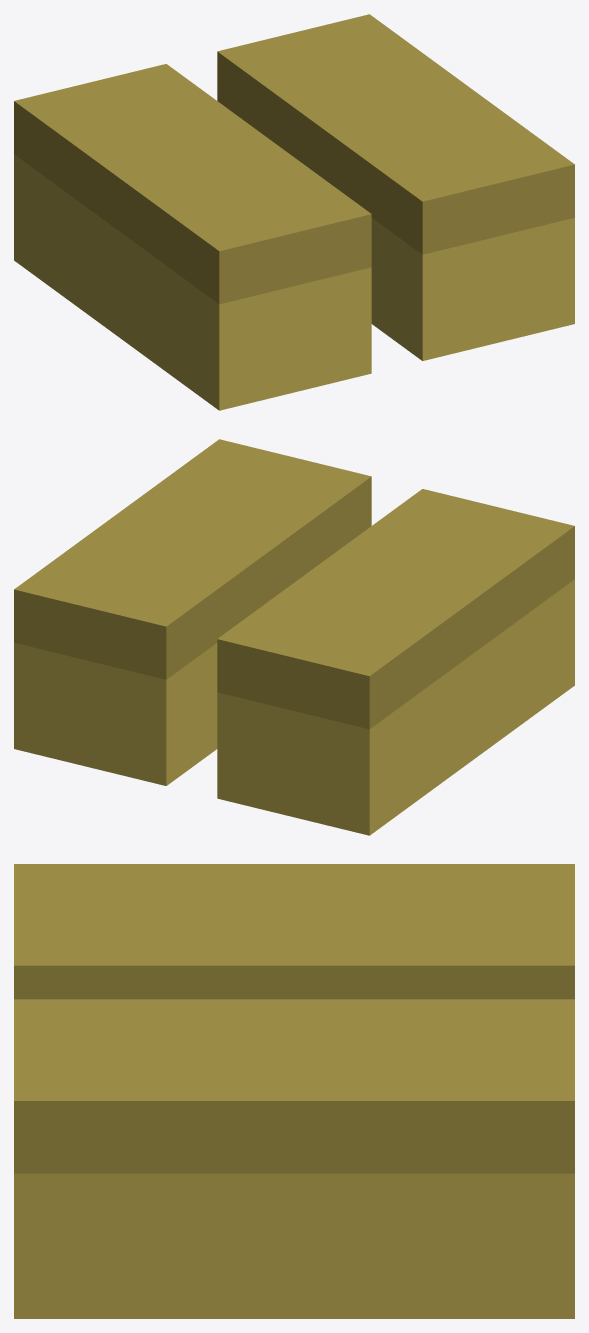
Rendered from legendario_zapatos_pirata_01.glb.
3 views of the same model, one above another, from view 1: azimuth 30°, elevation 25°; view 2: azimuth 150°, elevation 25°; view 3: azimuth 270°, elevation 25° (orthographic). The views are drawn at different scales.
Parts seen in each view (by area): view 1: legendario_zapatos_pirata; view 2: legendario_zapatos_pirata; view 3: legendario_zapatos_pirata.
Boxes of the visible parts, box(x1,y1,x2,y2) form: legendario_zapatos_pirata: box(14, 14, 574, 410); legendario_zapatos_pirata: box(14, 439, 574, 835); legendario_zapatos_pirata: box(14, 864, 574, 1318).
Size of the model in its own units: 0.5833 by 0.25 by 0.5833.
